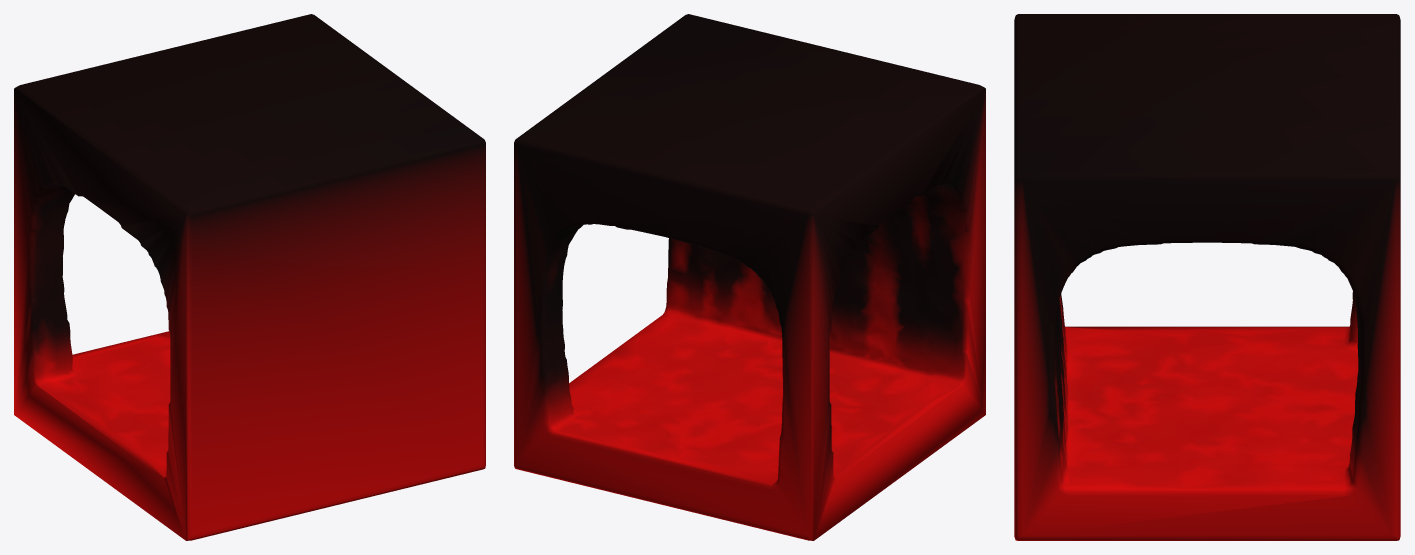
The model's file is SM_Mine_Tunnel_T.fbx.
3 renders of one model, left to right at view 1: azimuth 30°, elevation 25°; view 2: azimuth 150°, elevation 25°; view 3: azimuth 270°, elevation 25°, orthographic. The views are drawn at different scales.
Parts seen in each view (by area): view 1: SM_Mine_Tunnel_T; view 2: SM_Mine_Tunnel_T; view 3: SM_Mine_Tunnel_T.
Part boxes in pixels (box(x1,y1,x2,y2)): SM_Mine_Tunnel_T: box(14, 14, 485, 540); SM_Mine_Tunnel_T: box(514, 14, 985, 540); SM_Mine_Tunnel_T: box(1014, 14, 1400, 540).
Size of the model in its own units: 4 by 4.2 by 4.
